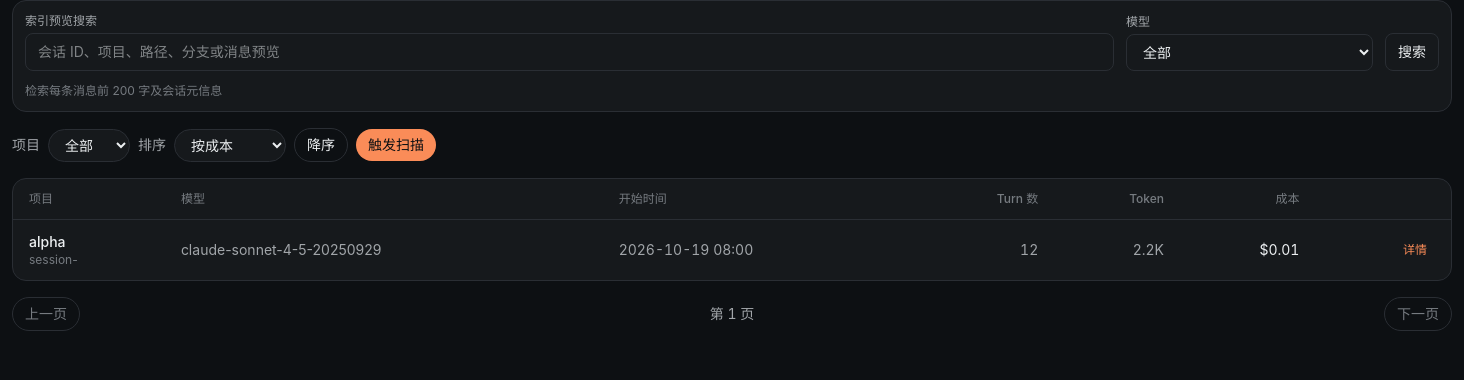
Test case: SessionsPage › 扫描抛出非 Error 值时给兜底文案
Expected: the number of rows with test id "session-row" is 1, x1=13 y1=220 x2=1451 y2=280
Click the button "触发扫描" at (396, 145), box x1=356 y1=129 x2=436 y2=161
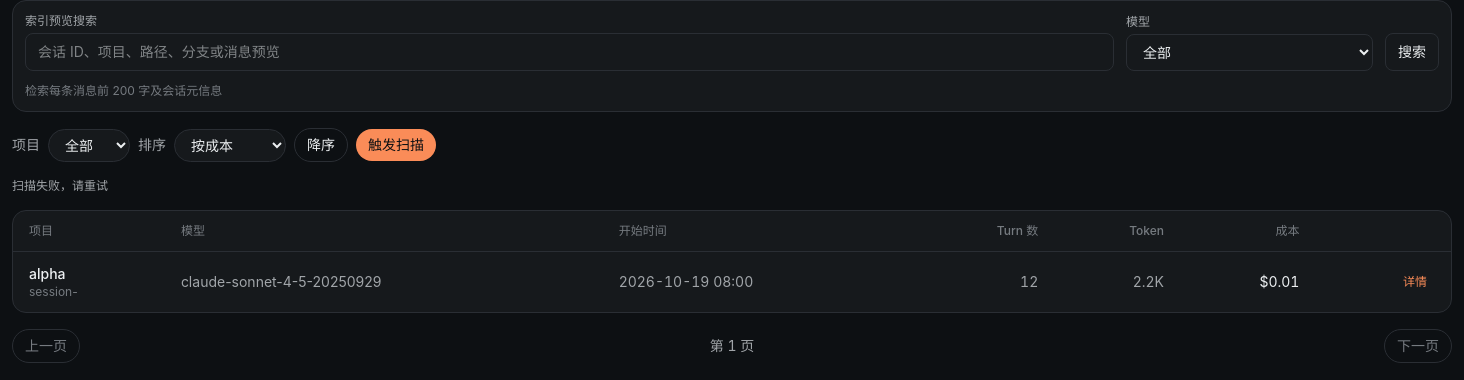
Now the text "扫描失败，请重试" is shown, box x1=12 y1=178 x2=108 y2=193
